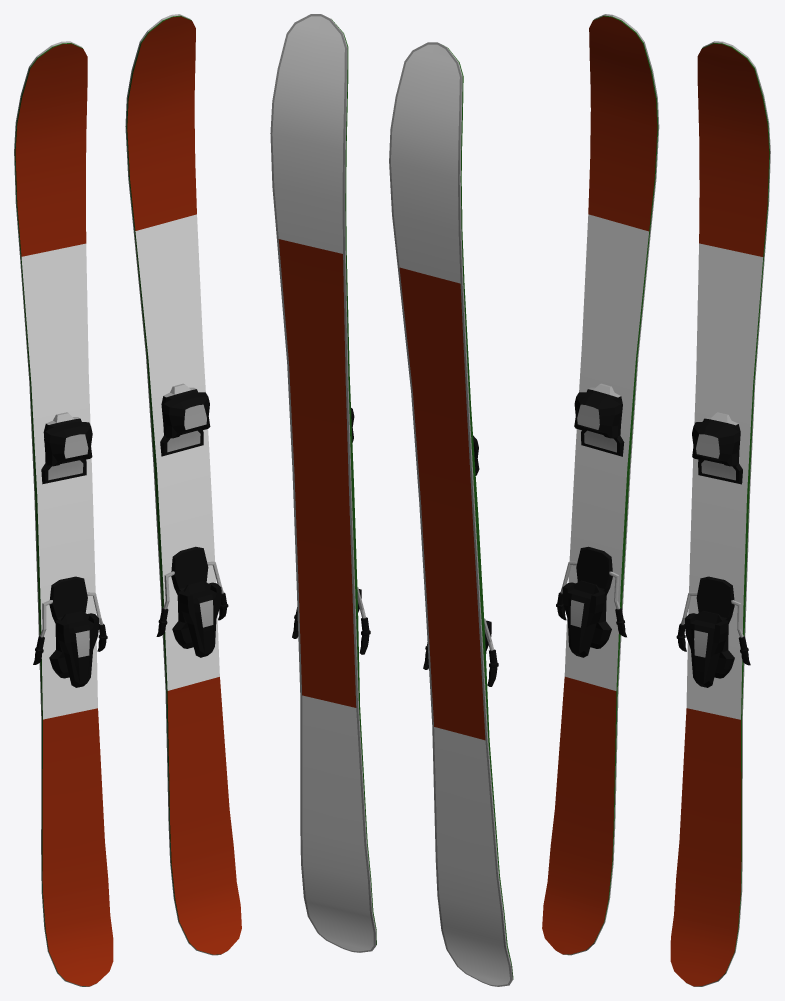
Rendered from Skis.obj.
The picture shows the model from 3 angles, left to right: view 1: azimuth 30°, elevation 25°; view 2: azimuth 150°, elevation 25°; view 3: azimuth 330°, elevation 25°; orthographic projection. The views are drawn at different scales.
Visible parts, largest first — view 1: Ski_L, Ski_R; view 2: Ski_R, Ski_L; view 3: Ski_R, Ski_L.
Part boxes in pixels (x1,y1,x2,y2): Ski_L: (14,41,113,986); Ski_R: (125,14,241,955); Ski_R: (270,14,376,952); Ski_L: (389,42,513,986); Ski_R: (670,41,770,986); Ski_L: (542,14,659,955).
Size of the model in its own units: 0.4057 by 1.85 by 0.196.
